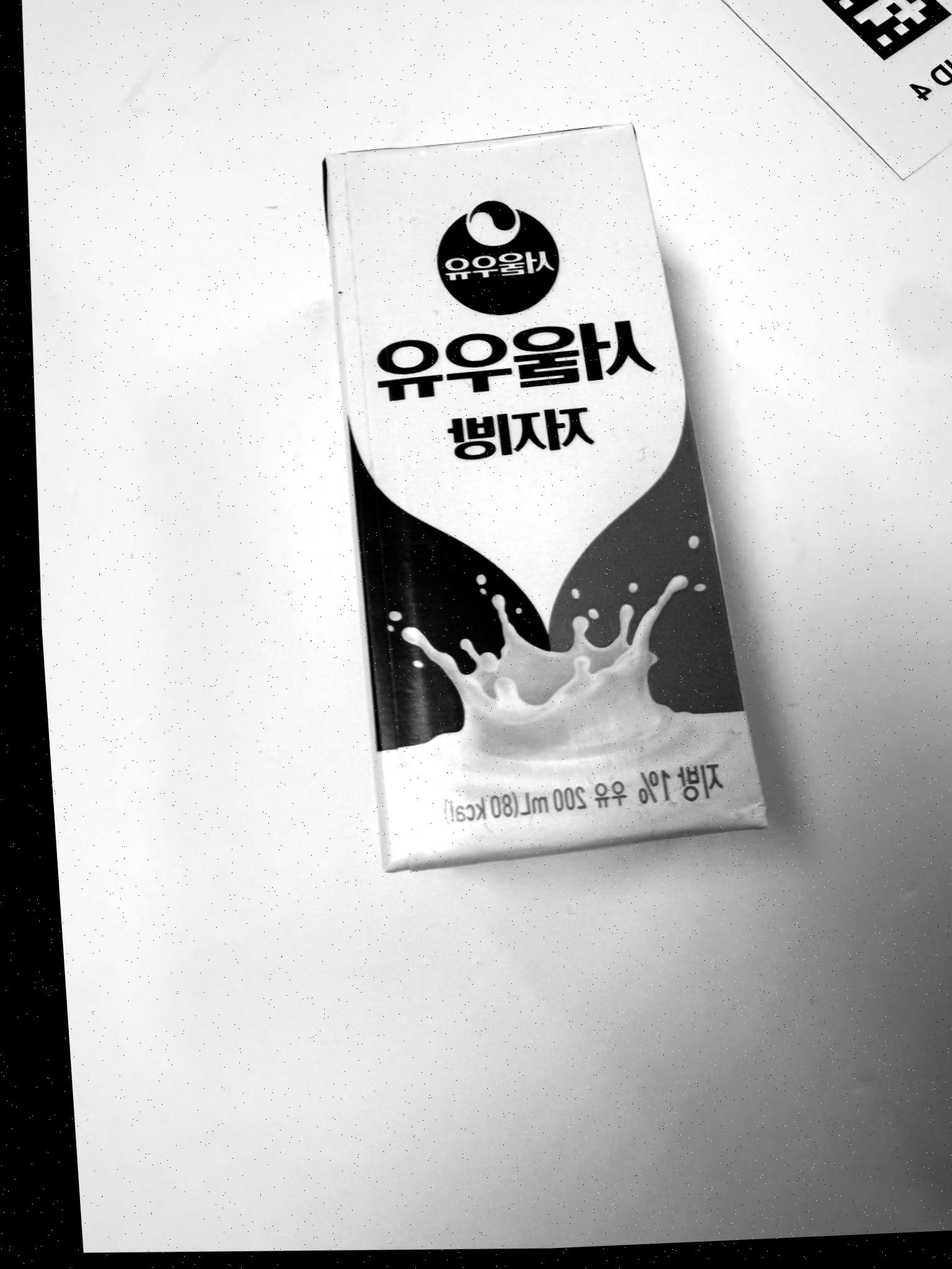milk_blue: (325, 128, 766, 870)
